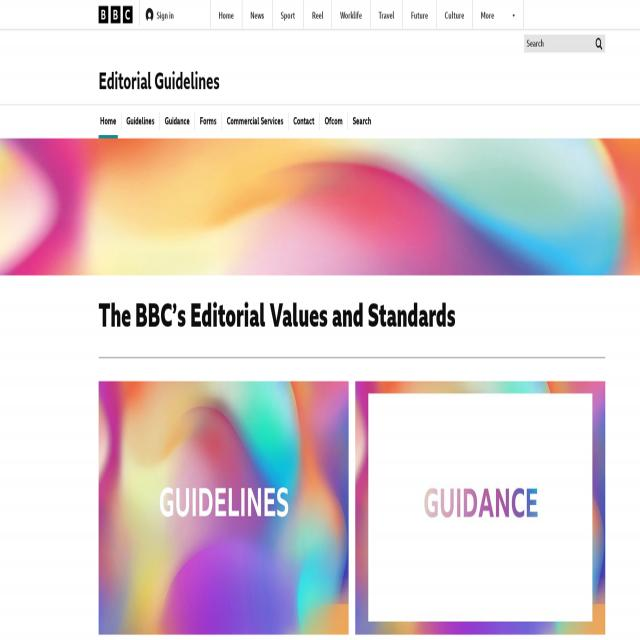button: (355, 381, 606, 634), (99, 380, 348, 634), (222, 105, 288, 138), (473, 0, 523, 29), (122, 105, 160, 138), (160, 105, 194, 138), (332, 0, 370, 29), (436, 0, 472, 29), (140, 0, 181, 25), (289, 105, 319, 138), (403, 0, 436, 29), (210, 0, 242, 29), (370, 0, 402, 29), (348, 105, 376, 138), (320, 105, 347, 138), (242, 0, 272, 29), (273, 0, 303, 29), (95, 105, 121, 138), (195, 105, 221, 138), (304, 0, 331, 29), (99, 6, 133, 24), (592, 34, 606, 52)
field: (524, 34, 592, 52)
